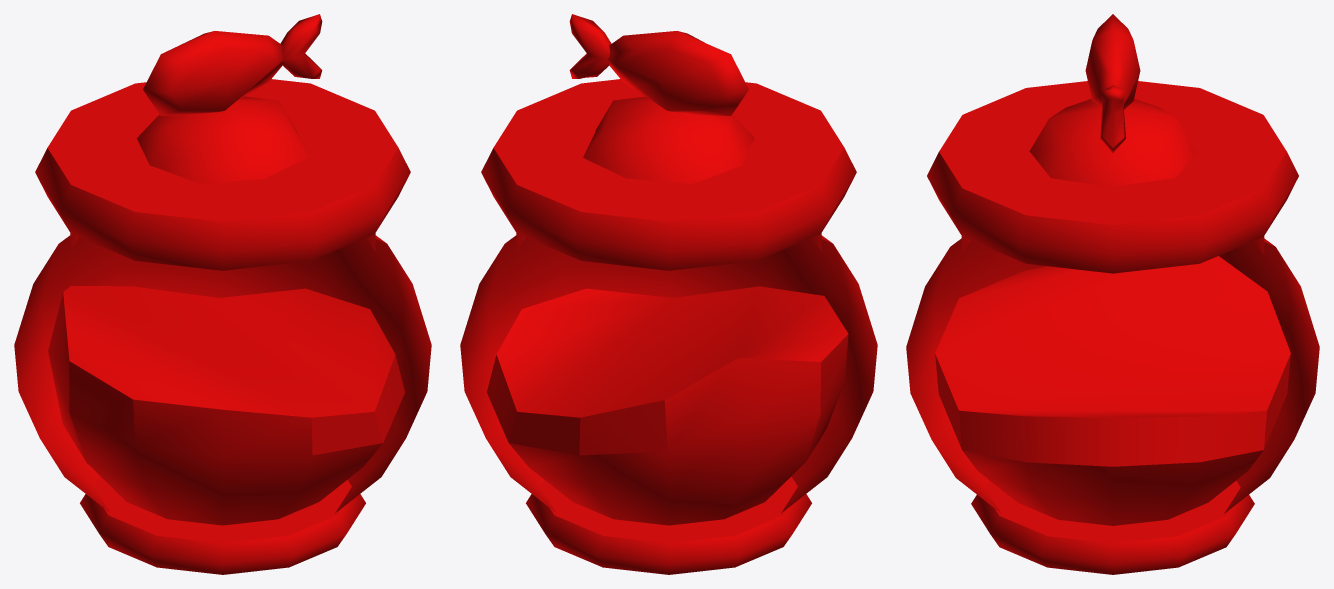
File: Asset_GlowfishOil.glb
3 renders of one model, left to right at view 1: azimuth 30°, elevation 25°; view 2: azimuth 150°, elevation 25°; view 3: azimuth 270°, elevation 25°, orthographic.
Parts seen in each view (by area): view 1: Asset_GlowfishOil; view 2: Asset_GlowfishOil; view 3: Asset_GlowfishOil.
Part boxes in pixels (<box>): Asset_GlowfishOil: <box>14,14,431,574</box>; Asset_GlowfishOil: <box>460,14,877,574</box>; Asset_GlowfishOil: <box>906,14,1319,574</box>.
Size of the model in its own units: 0.3047 by 0.3948 by 0.3047.
